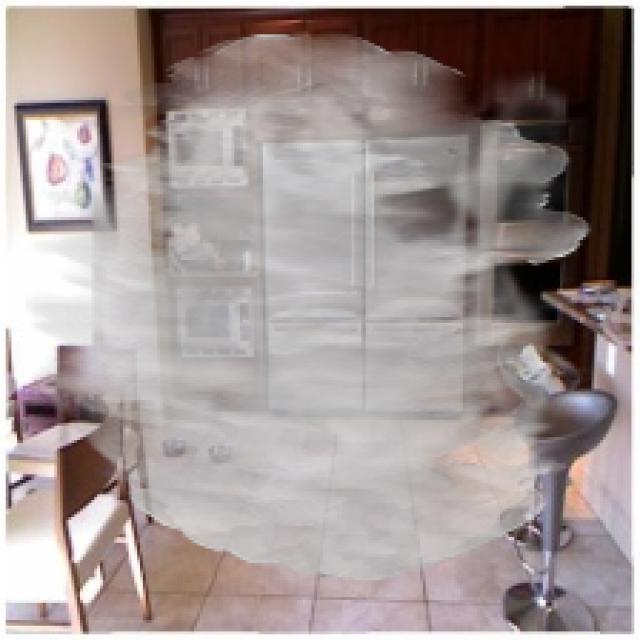Smoke: (26, 31, 592, 580)
